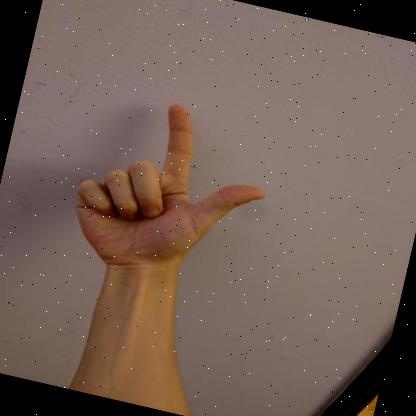L: (76, 105, 265, 287)
